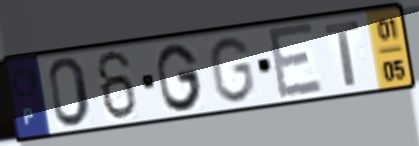0: (46, 56, 93, 129)
6: (95, 48, 140, 124)
E: (265, 20, 326, 103)
G: (154, 41, 205, 114), (206, 34, 257, 106)
T: (322, 18, 363, 89)
